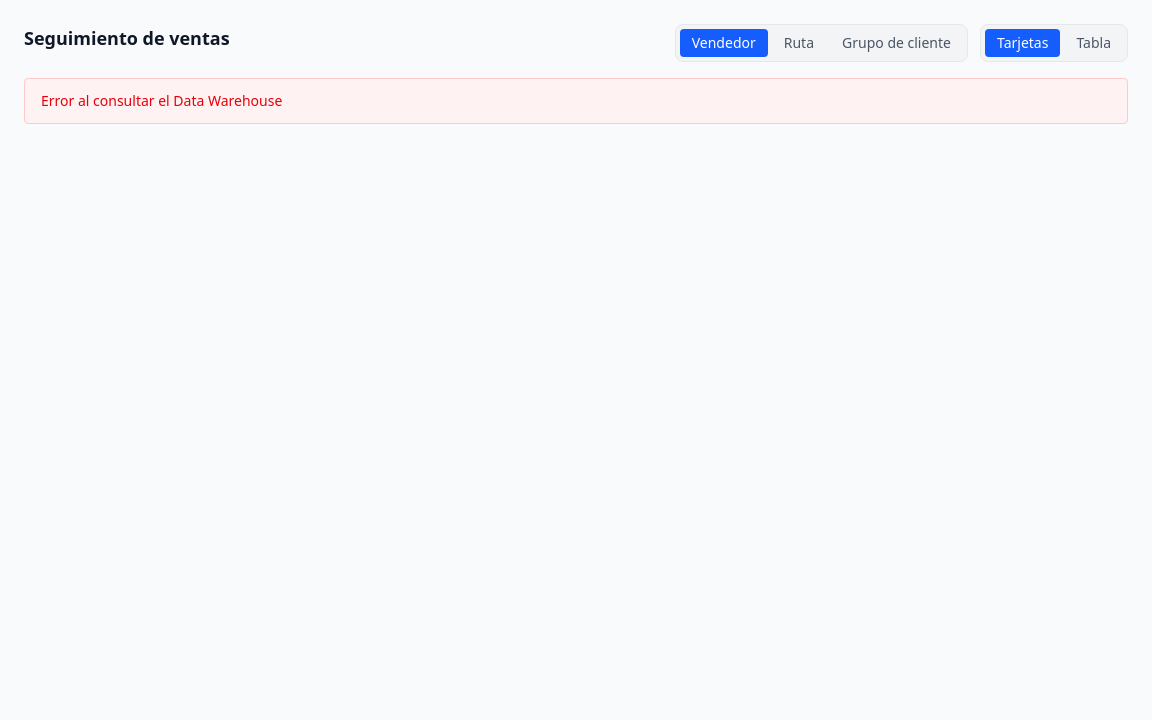
Test case: TabSeguimiento review fixes › a failed load keeps the toggles so another grouping can be chosen
Expected: the text "Error al consultar el Data Warehouse" is shown, [24, 78, 1128, 124]
Click the button "Ruta" at (799, 43), box [772, 29, 826, 57]
(page scrolled)
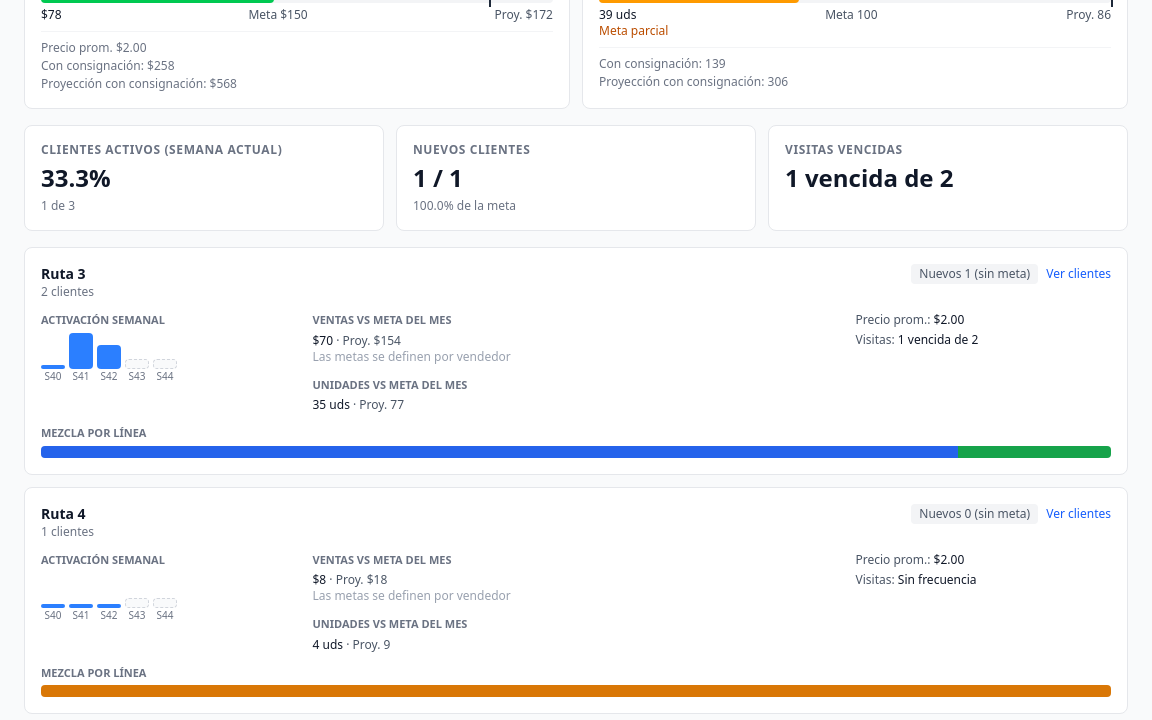
Expected: the element "Ruta 3" is shown, [24, 247, 1128, 474]
Expected: the text "Error al consultar el Data Warehouse" is gone
